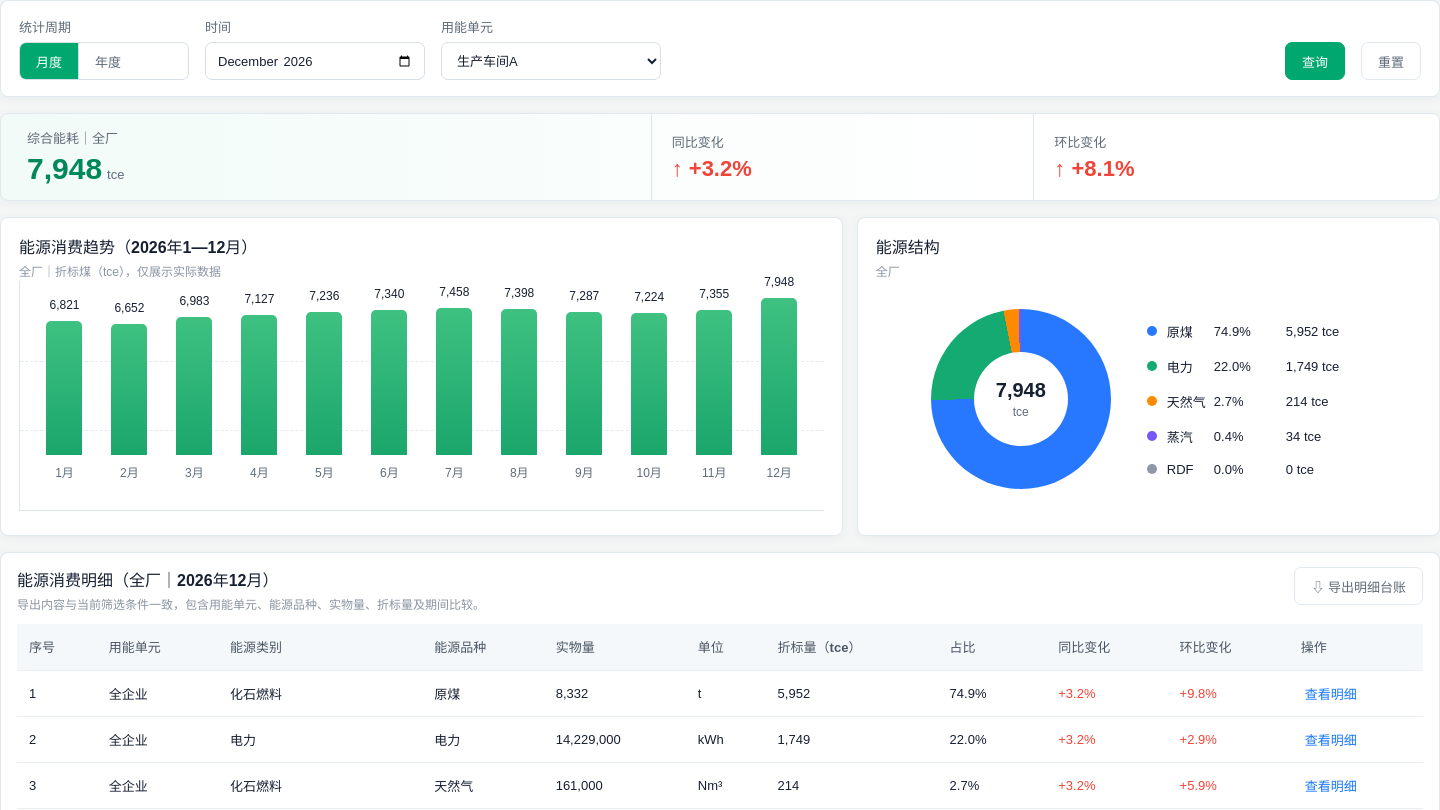
Scenario: EnergyAnalysisV4 prototype fidelity and interactions › applies and resets the consumption scope and exposes valuable monthly drilldown
Select "生产车间A" in the dropdown named "用能单元": (551, 61) [441, 42, 661, 80]
Click the button "查询": (1315, 61) [1285, 42, 1345, 80]
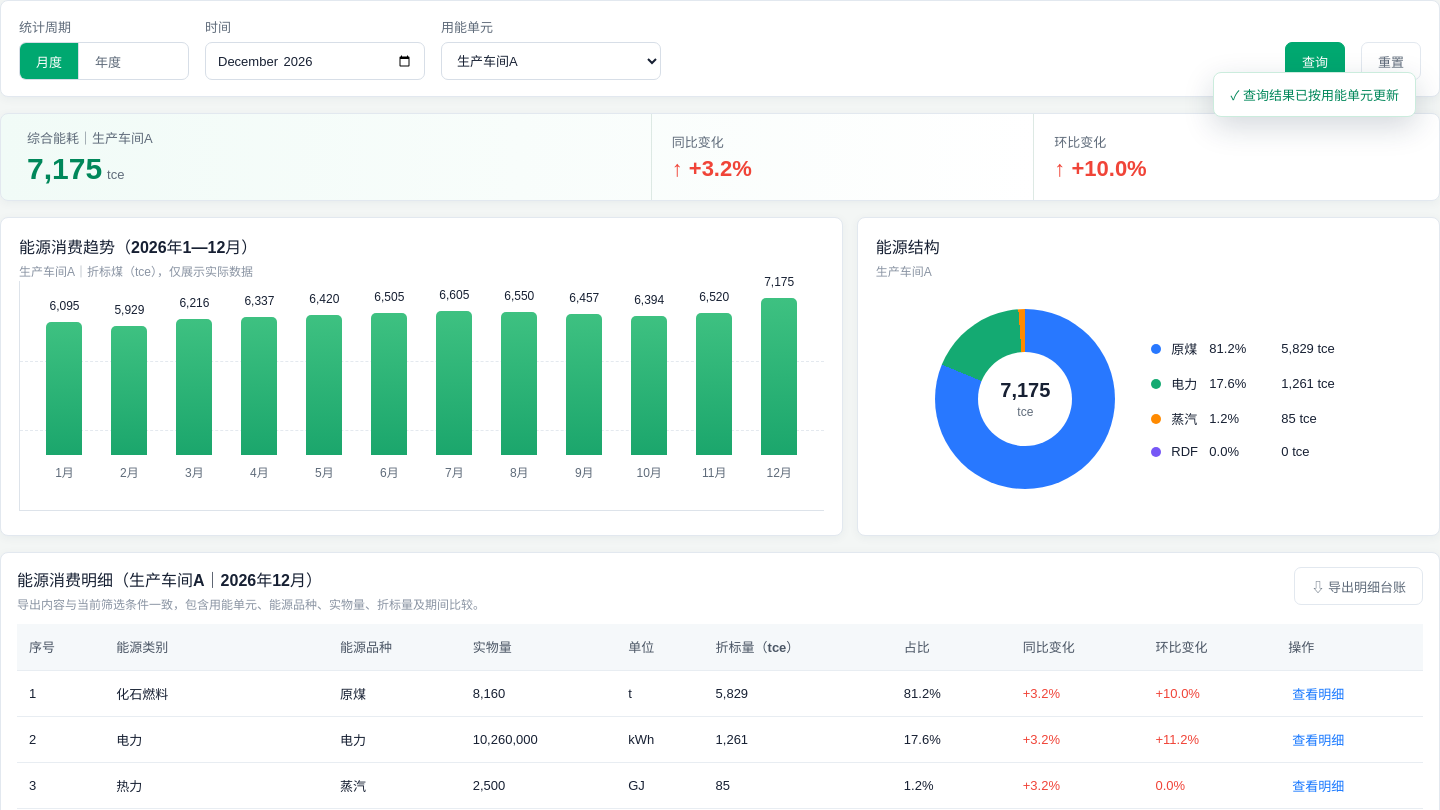
Expected: the text "综合能耗｜生产车间A" is shown, [27, 131, 153, 146]
Click the button "查看明细" in the row of "10,260,000": (1318, 739) [1288, 728, 1348, 750]
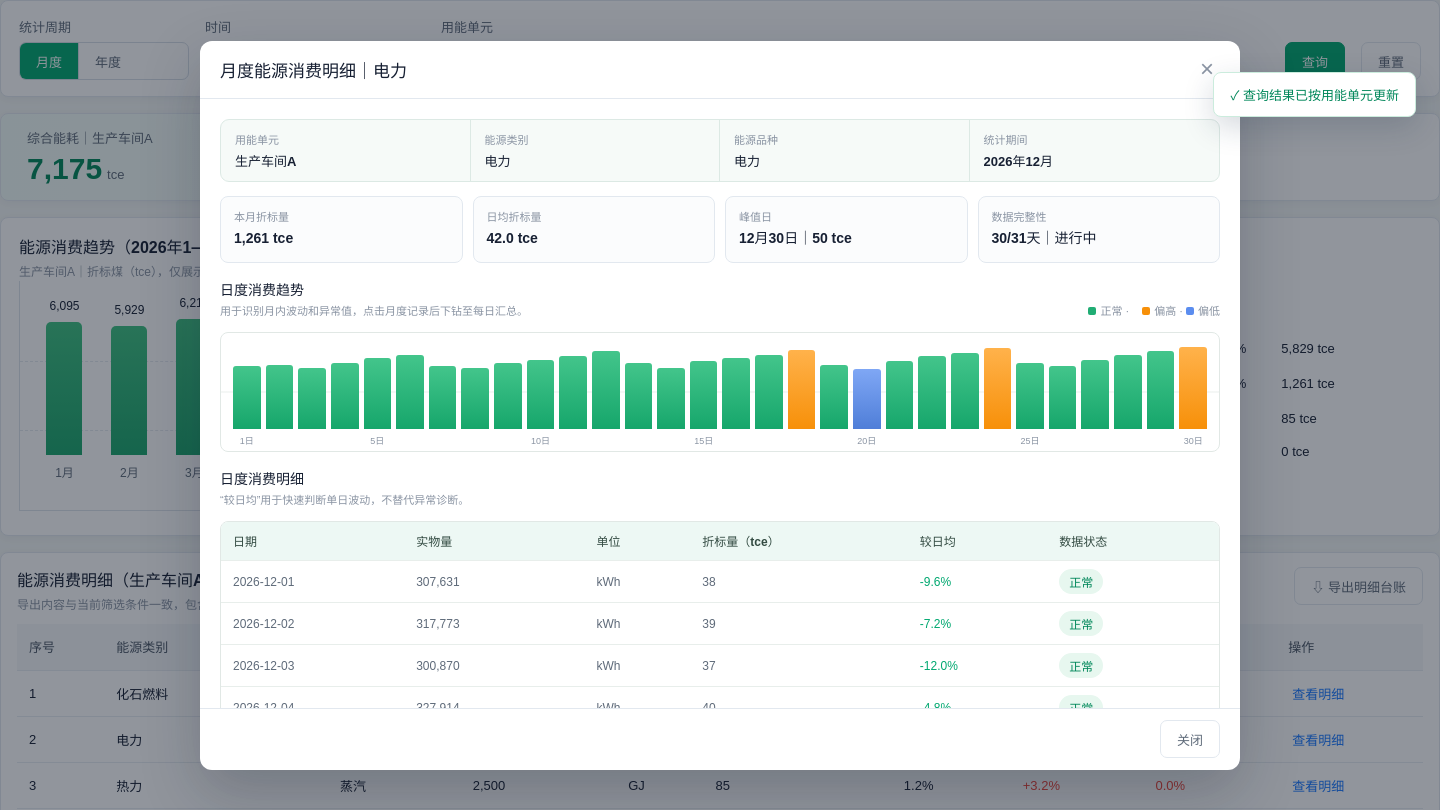
Expected: the dialog shows "月度能源消费明细｜电力", [220, 62, 407, 80]
Expected: the dialog shows "日度消费趋势", [220, 282, 304, 298]
Expected: the dialog shows "峰值日", [739, 210, 772, 222]
Click the button "关闭": (1190, 739) [1160, 720, 1220, 758]
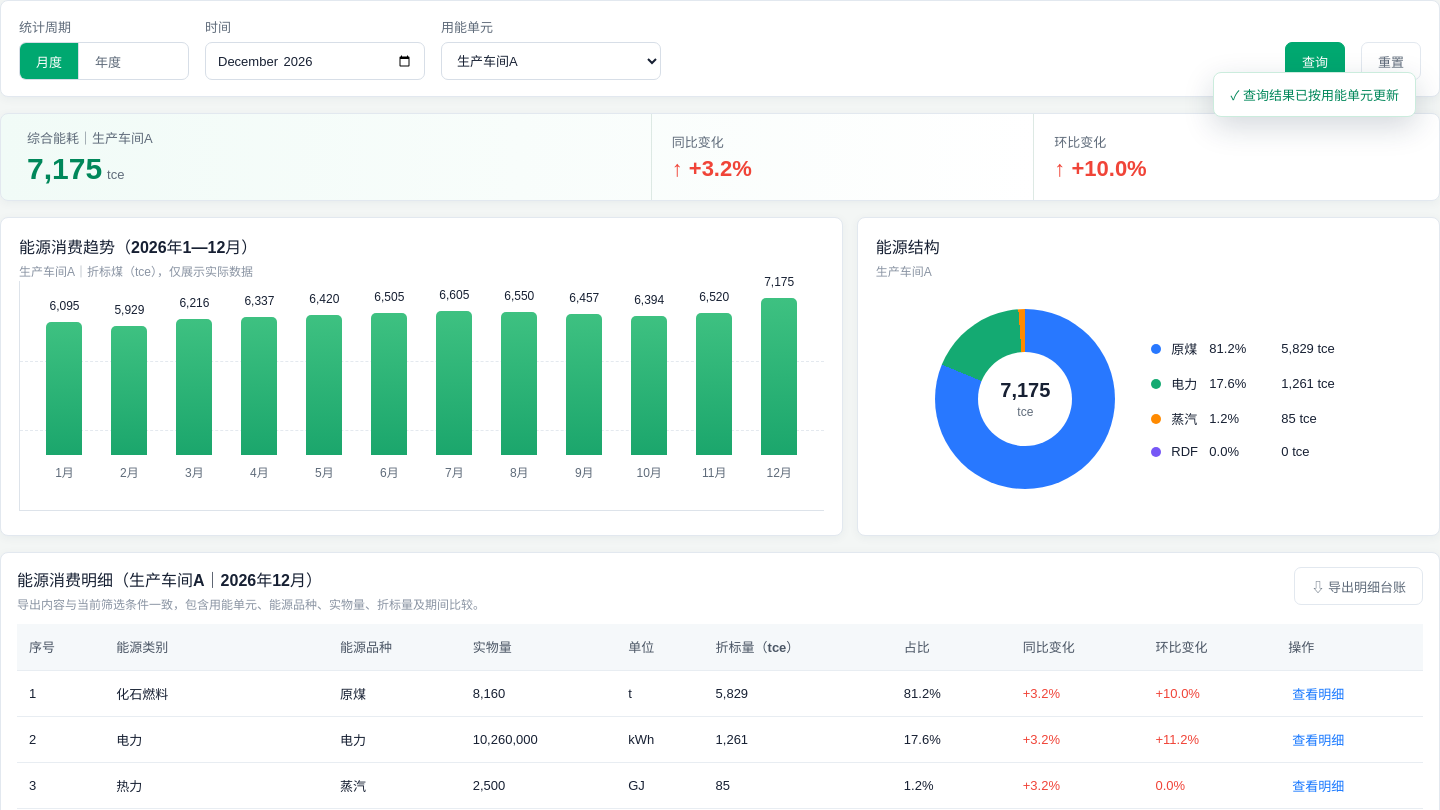
Click the button "重置": (1391, 61) [1361, 42, 1421, 80]
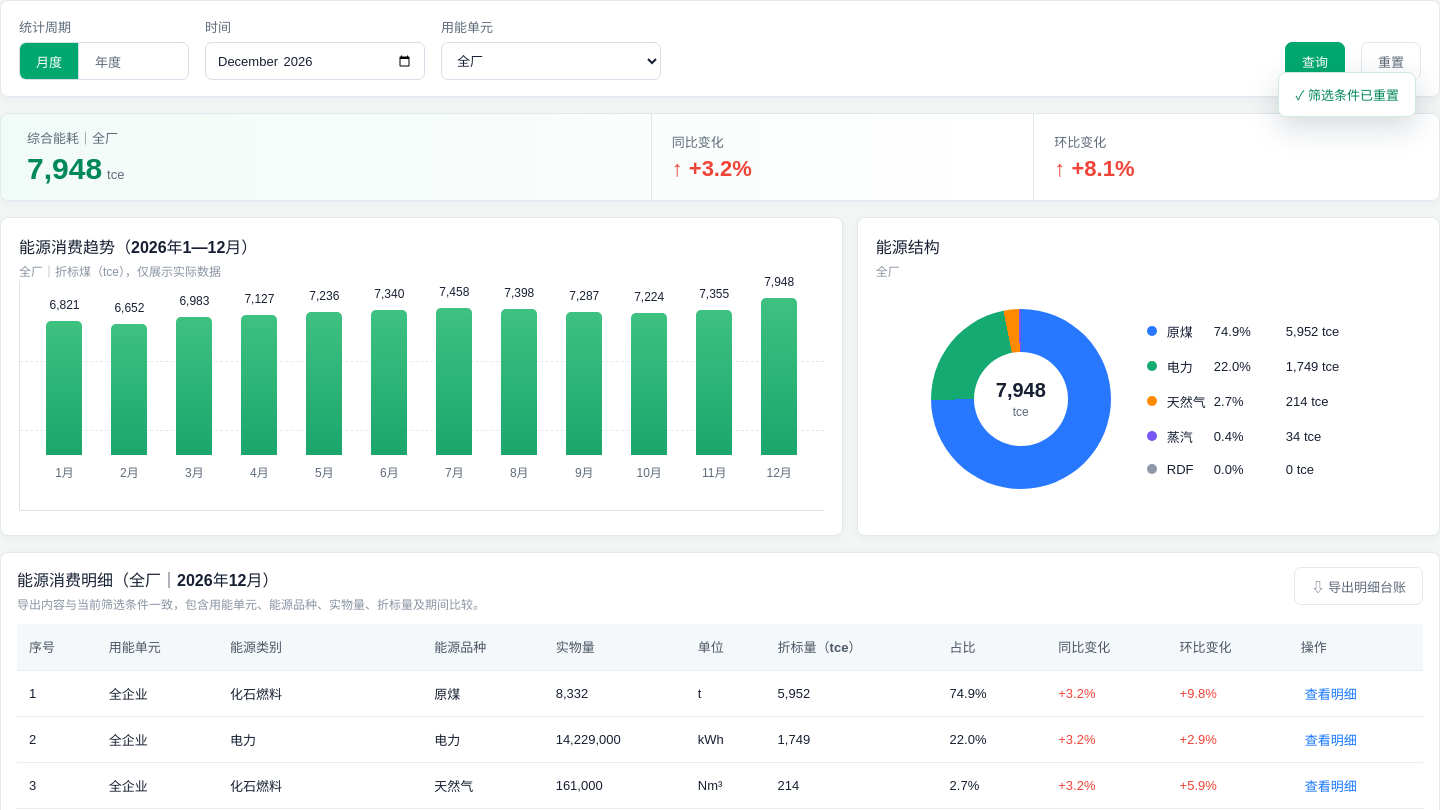
Expected: the text "综合能耗｜全厂" is shown, [27, 131, 118, 146]
